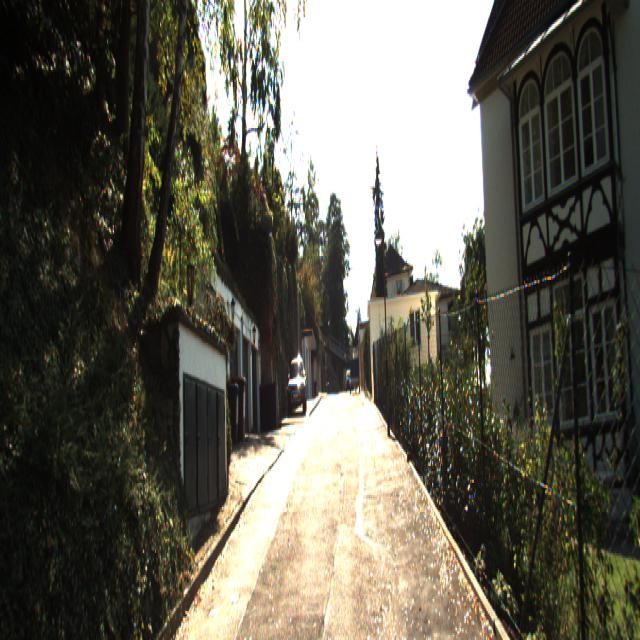Car: (288, 356, 305, 415), (350, 356, 361, 395)
